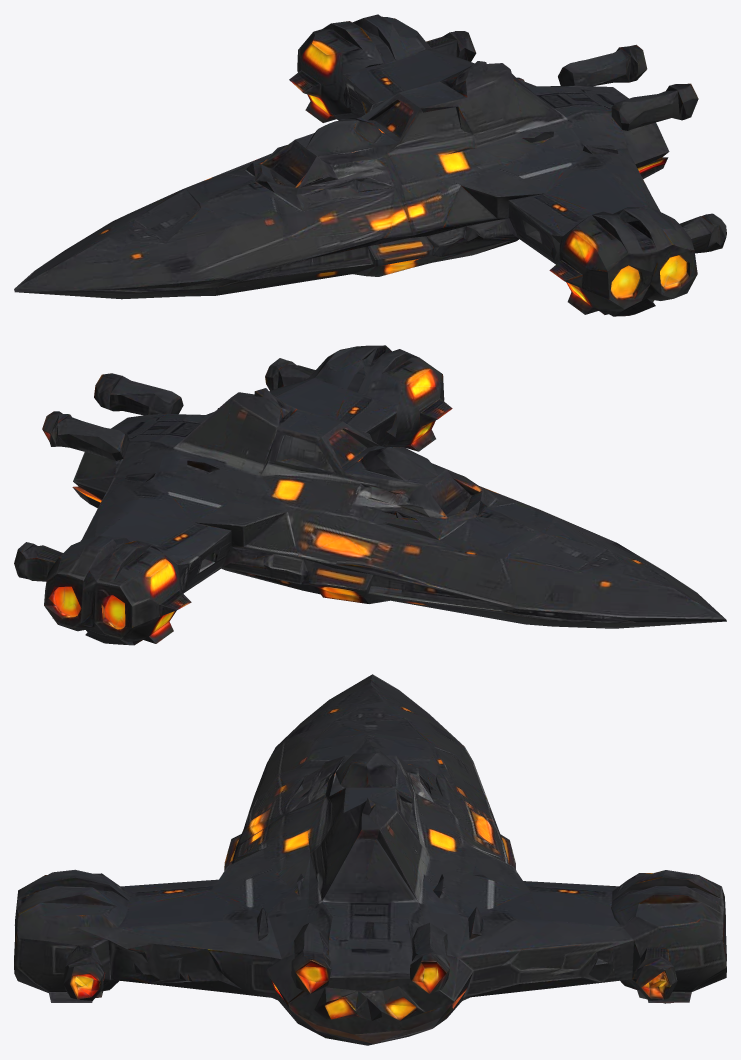
The model's file is nation-t-scout.glb.
The picture shows the model from 3 angles, top to bottom: view 1: azimuth 30°, elevation 25°; view 2: azimuth 150°, elevation 25°; view 3: azimuth 270°, elevation 25°; orthographic projection. The views are drawn at different scales.
Size of the model in its own units: 1.89 by 0.4695 by 1.58.
Materials: 1 (1 with a texture image).
